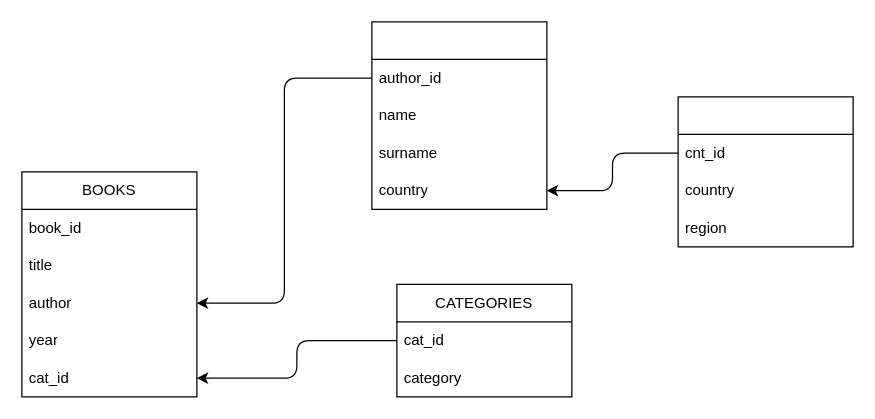
Some shapes in this 875 by 419 pixel diagram are drawn without their labels. Here are the shapes that lost their labels. From the top down, the box of each, then its label:
(371, 21, 547, 209): AUTHORS
(677, 96, 853, 247): COUNTRIES
